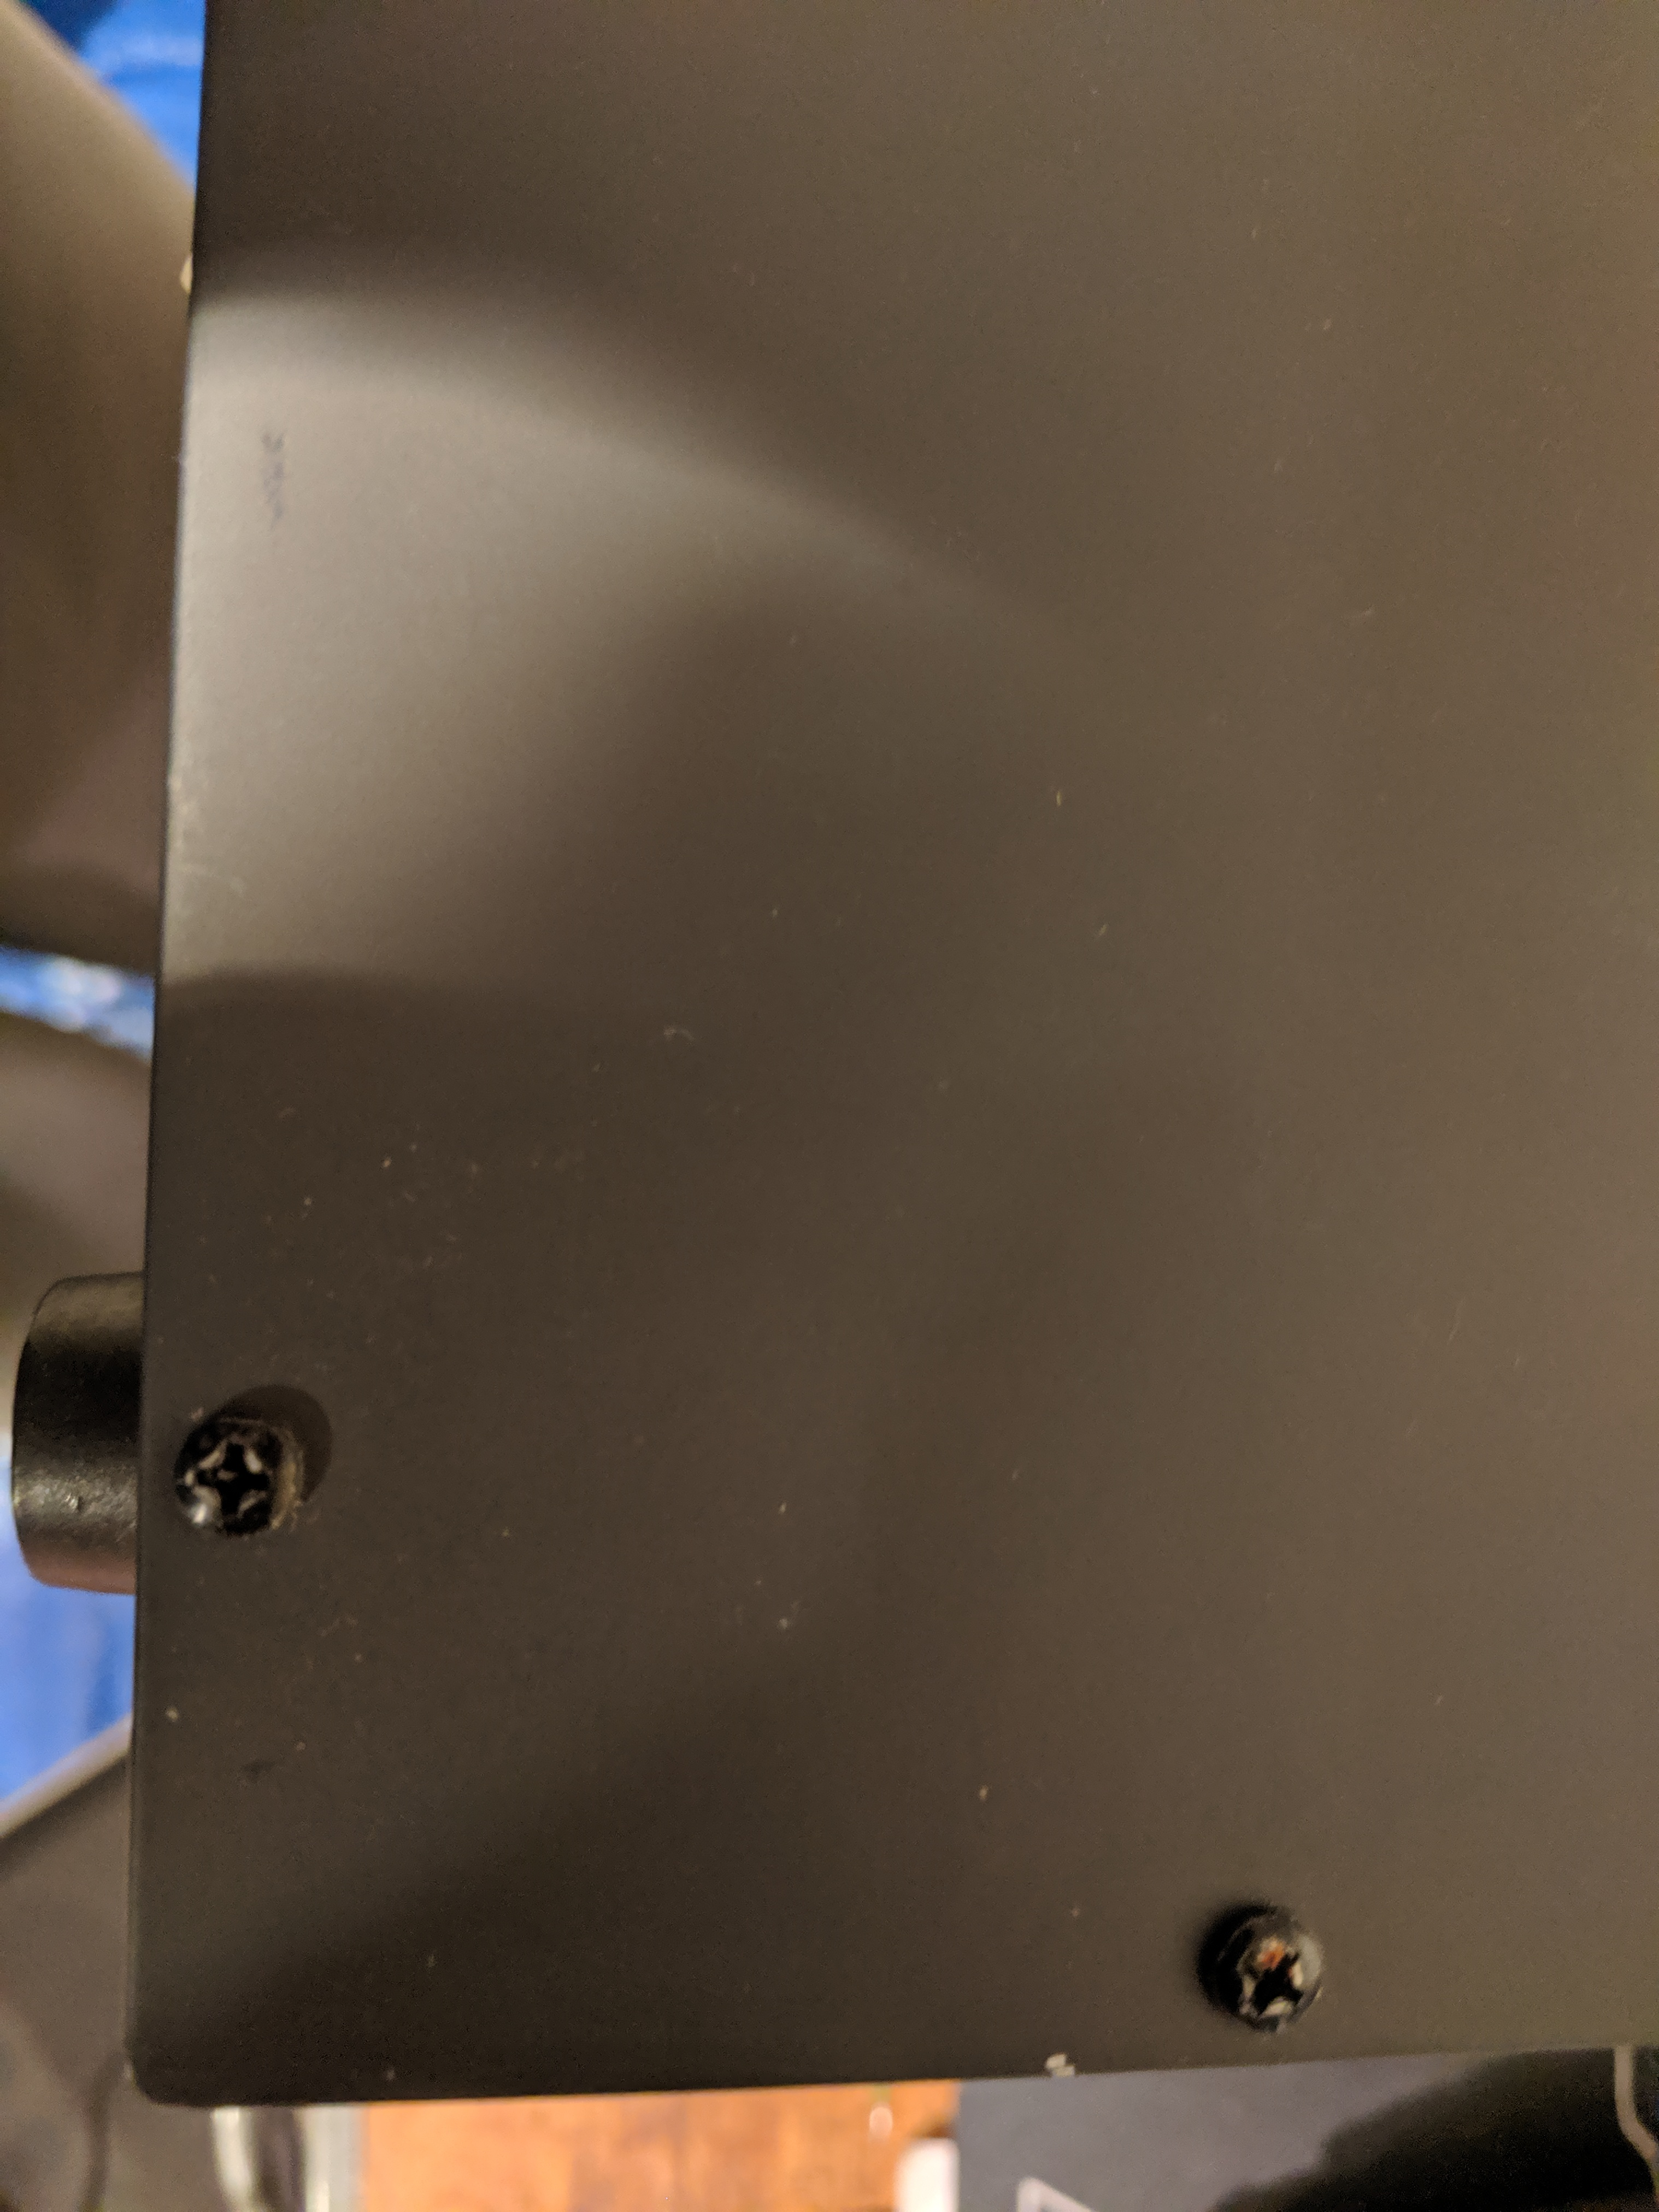cross_recessed_screw: (1195, 1909, 1330, 2033), (173, 1411, 296, 1534)
